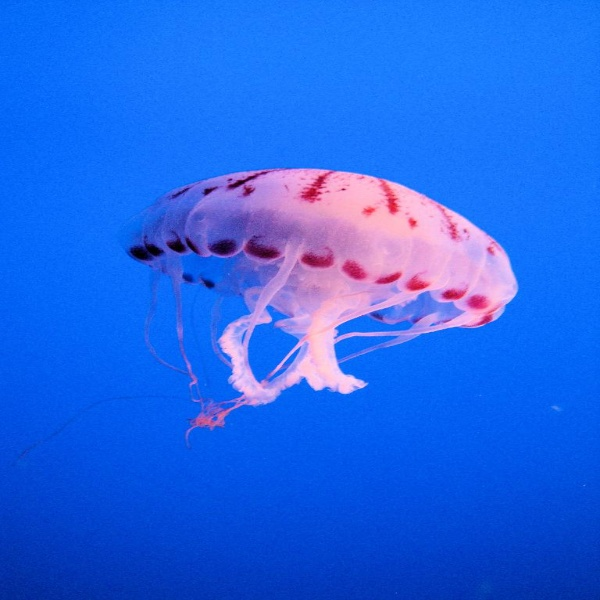Jellyfish: (6, 165, 518, 466)
